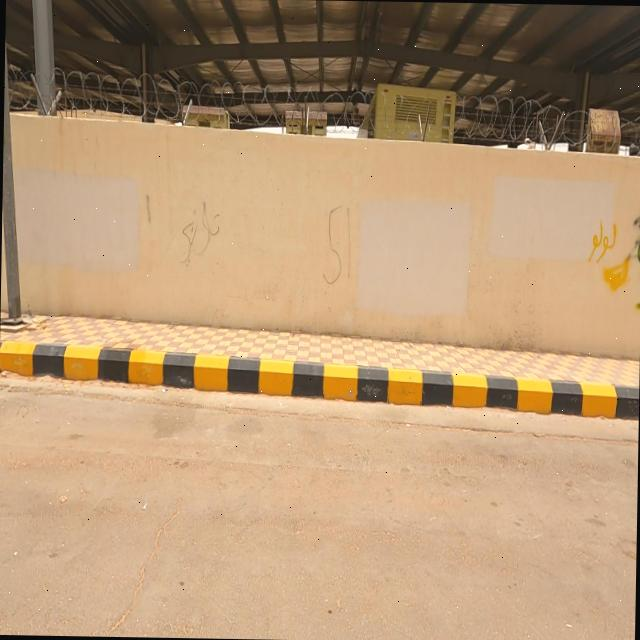Graffiti: (587, 216, 631, 291), (175, 202, 221, 268), (321, 207, 354, 288)
